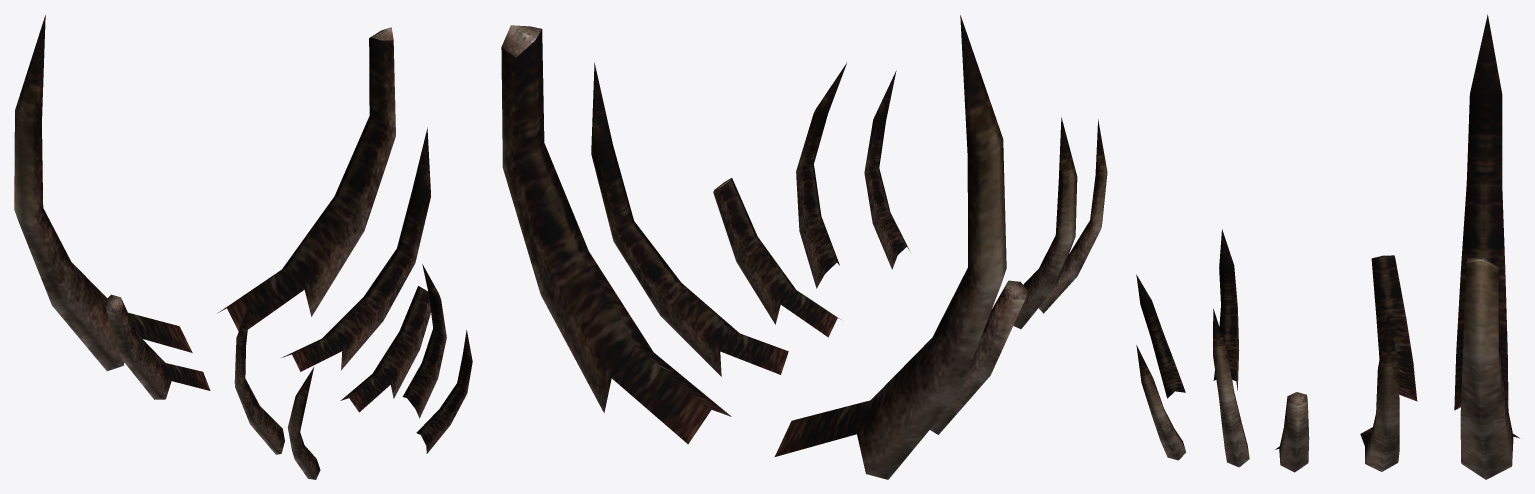
Rendered from ob-11-03-bonetunnel04_02.glb.
3 views of the same model, side by side, from view 1: azimuth 30°, elevation 25°; view 2: azimuth 150°, elevation 25°; view 3: azimuth 270°, elevation 25° (orthographic). The views are drawn at different scales.
Parts seen in each view (by area): view 1: Object01; view 2: Object01; view 3: Object01.
Part boxes in pixels (x1,y1,x2,y2): Object01: [14, 15, 472, 479]; Object01: [501, 15, 1107, 479]; Object01: [1136, 14, 1519, 479].
Size of the model in its own units: 16.39 by 15.73 by 15.53.
Materials: 1 (1 with a texture image).
